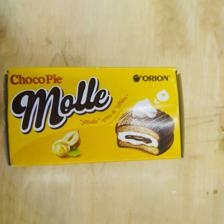Molle: (5, 67, 182, 169)
